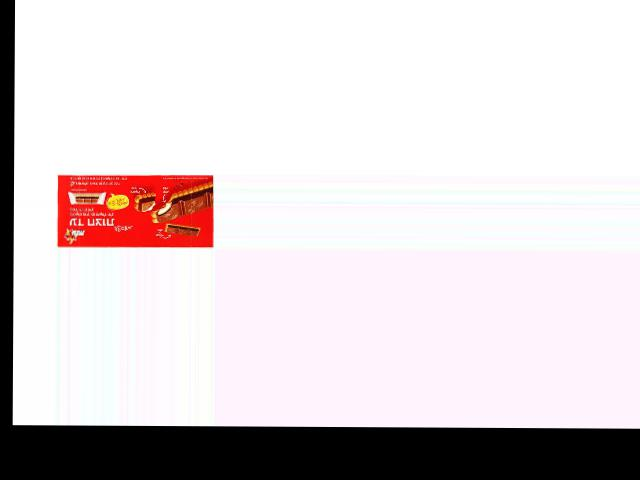chocolate: (54, 173, 214, 248)
